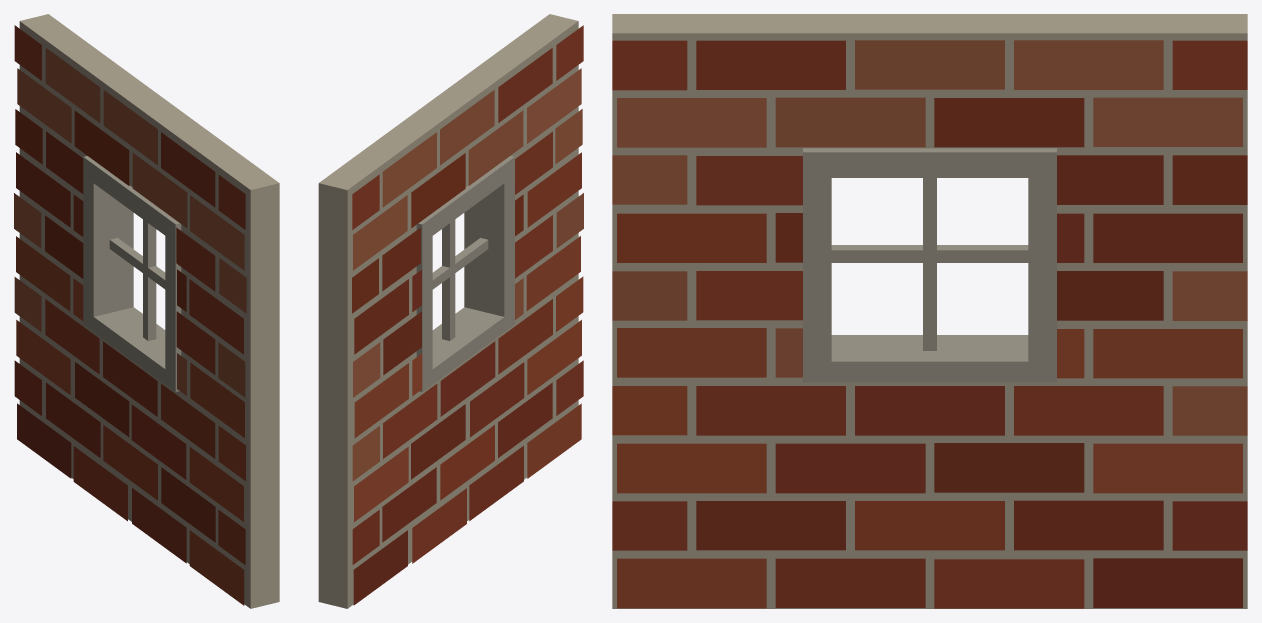
Rendered from wall-brick-window.glb.
3 views of the same model, side by side, from view 1: azimuth 30°, elevation 25°; view 2: azimuth 150°, elevation 25°; view 3: azimuth 270°, elevation 25° (orthographic). The views are drawn at different scales.
Parts seen in each view (by area): view 1: wall-brick-window; view 2: wall-brick-window; view 3: wall-brick-window.
Part boxes in pixels (bbox=[...]): wall-brick-window: bbox=[14, 14, 279, 608]; wall-brick-window: bbox=[318, 14, 583, 608]; wall-brick-window: bbox=[612, 14, 1247, 608].
Size of the model in its own units: 0.1 by 1 by 1.
